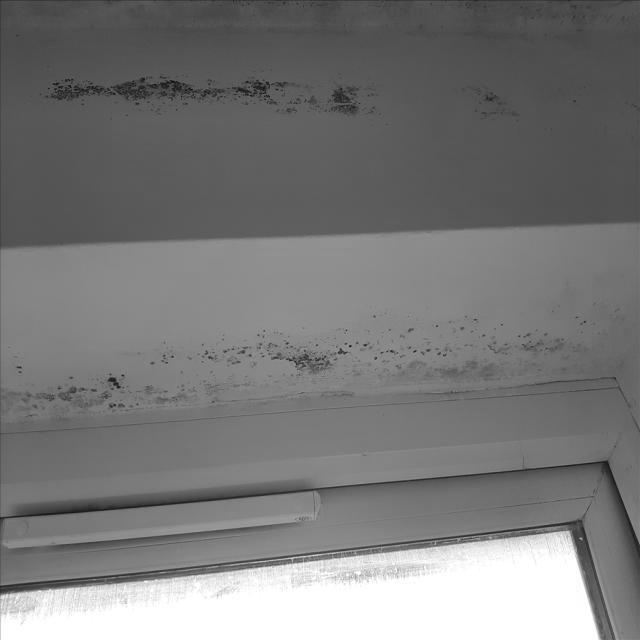stain marks: (0, 283, 640, 435), (24, 57, 391, 163), (0, 0, 640, 47), (453, 71, 521, 132), (599, 71, 640, 153), (548, 70, 592, 114)
